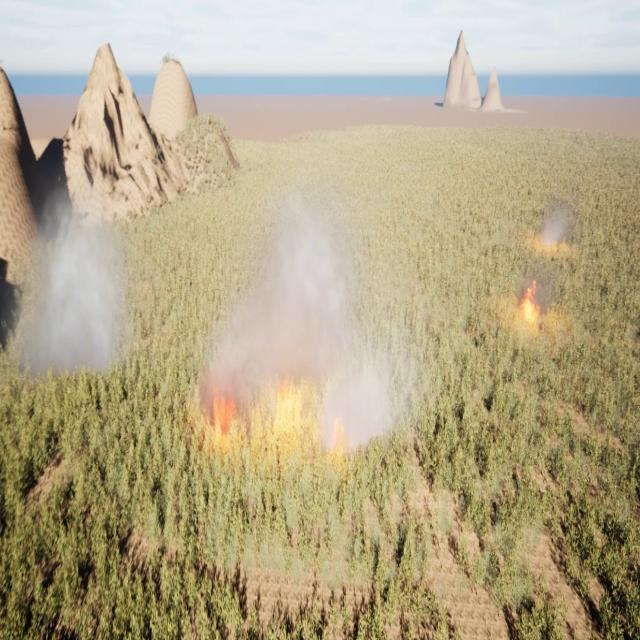fire: (265, 371, 316, 426), (206, 380, 240, 432), (327, 412, 357, 460), (520, 280, 540, 321)
smoke: (197, 152, 436, 454), (12, 173, 140, 373), (539, 203, 575, 251), (523, 267, 554, 318)
